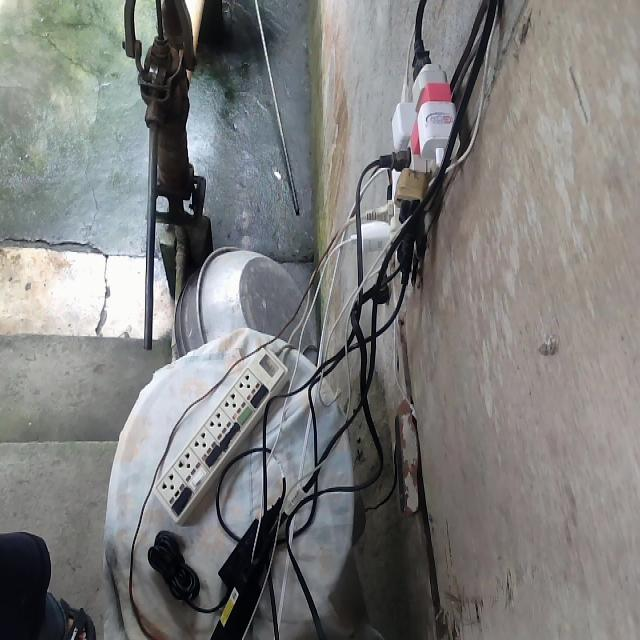-: (356, 59, 461, 272)
